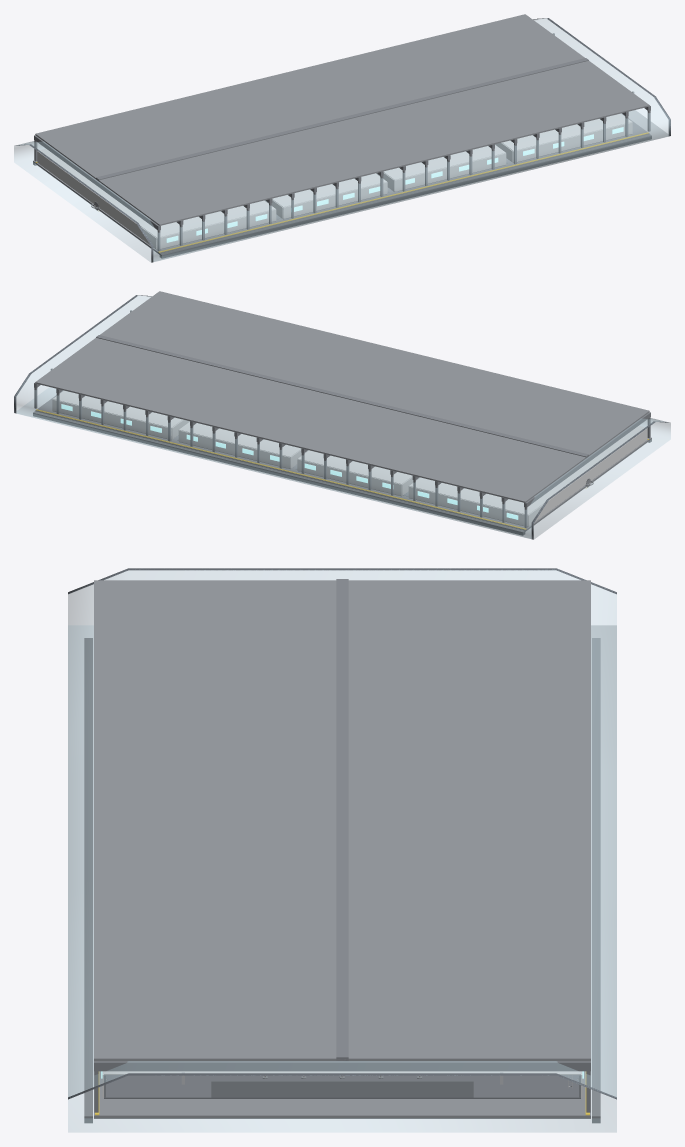
Rendered from dsx-02_deck_01_command.glb.
3 views of the same model, one above another, from view 1: azimuth 30°, elevation 25°; view 2: azimuth 150°, elevation 25°; view 3: azimuth 270°, elevation 25° (orthographic). The views are drawn at different scales.
Visible parts, largest first — view 1: DECK01_CeilingFrame, DECK01_HullBand, DECK01_DeckPlate, DECK01_Room_ReadyRoom, DECK01_Room_Bridge, DECK01_Room_Navigation, DECK01_Room_CommsVault; view 2: DECK01_CeilingFrame, DECK01_HullBand, DECK01_DeckPlate, DECK01_Room_ReadyRoom, DECK01_Room_Bridge, DECK01_Room_Navigation, DECK01_Room_CommsVault; view 3: DECK01_CeilingFrame, DECK01_HullBand, DECK01_DeckPlate, DECK01_Room_Bridge.
Boxes of the visible parts, x1,y1,x2,y2 form: DECK01_CeilingFrame: (34, 14, 650, 250); DECK01_HullBand: (14, 18, 670, 262); DECK01_DeckPlate: (33, 113, 651, 258); DECK01_Room_ReadyRoom: (37, 149, 276, 249); DECK01_Room_Bridge: (495, 113, 632, 162); DECK01_Room_Navigation: (376, 145, 506, 191); DECK01_Room_CommsVault: (265, 173, 387, 219); DECK01_CeilingFrame: (34, 291, 650, 527); DECK01_HullBand: (14, 295, 670, 539); DECK01_DeckPlate: (33, 390, 651, 535); DECK01_Room_ReadyRoom: (408, 426, 647, 526); DECK01_Room_Bridge: (52, 390, 189, 439); DECK01_Room_Navigation: (178, 422, 308, 468); DECK01_Room_CommsVault: (297, 450, 419, 496); DECK01_CeilingFrame: (94, 579, 590, 1112); DECK01_HullBand: (68, 568, 616, 1132); DECK01_DeckPlate: (84, 638, 600, 1123); DECK01_Room_Bridge: (101, 1071, 583, 1098).
Bounding box in the file's own units: 140 × 8.5 × 64.
